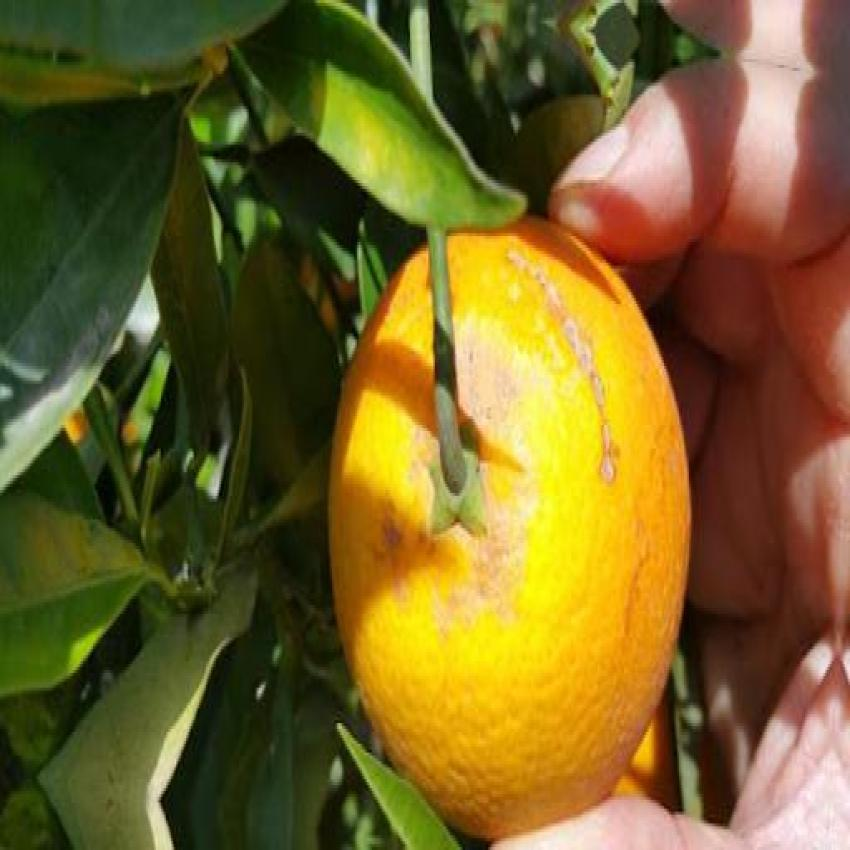Mal estado: (321, 189, 709, 833)
